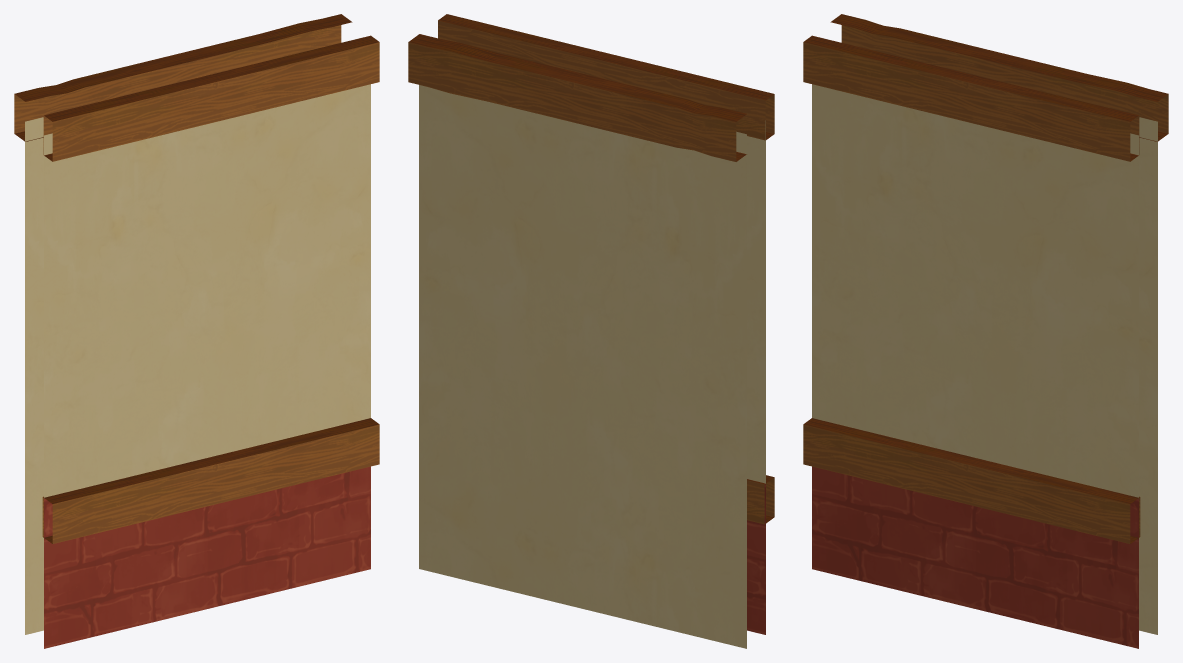
Rendered from WallPlasterStraightClay.glb.
3 renders of one model, left to right at view 1: azimuth 30°, elevation 25°; view 2: azimuth 150°, elevation 25°; view 3: azimuth 330°, elevation 25°, orthographic.
Parts seen in each view (by area): view 1: WallPlasterStraightClay; view 2: WallPlasterStraightClay; view 3: WallPlasterStraightClay.
Part boxes in pixels (x1,y1,x2,y2): WallPlasterStraightClay: [14, 14, 379, 648]; WallPlasterStraightClay: [408, 14, 774, 648]; WallPlasterStraightClay: [803, 14, 1168, 648].
Bounding box in the file's own units: 2 × 3.12 × 0.4065.
Materials: 3 (3 with a texture image).
